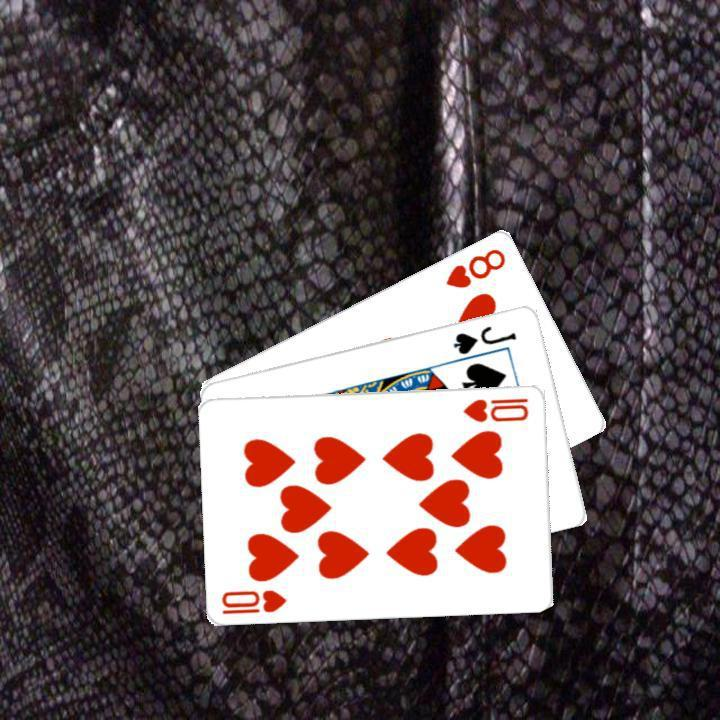10: (218, 584, 289, 616), (459, 393, 531, 424)
8: (441, 243, 508, 290)
J: (449, 320, 519, 356)
